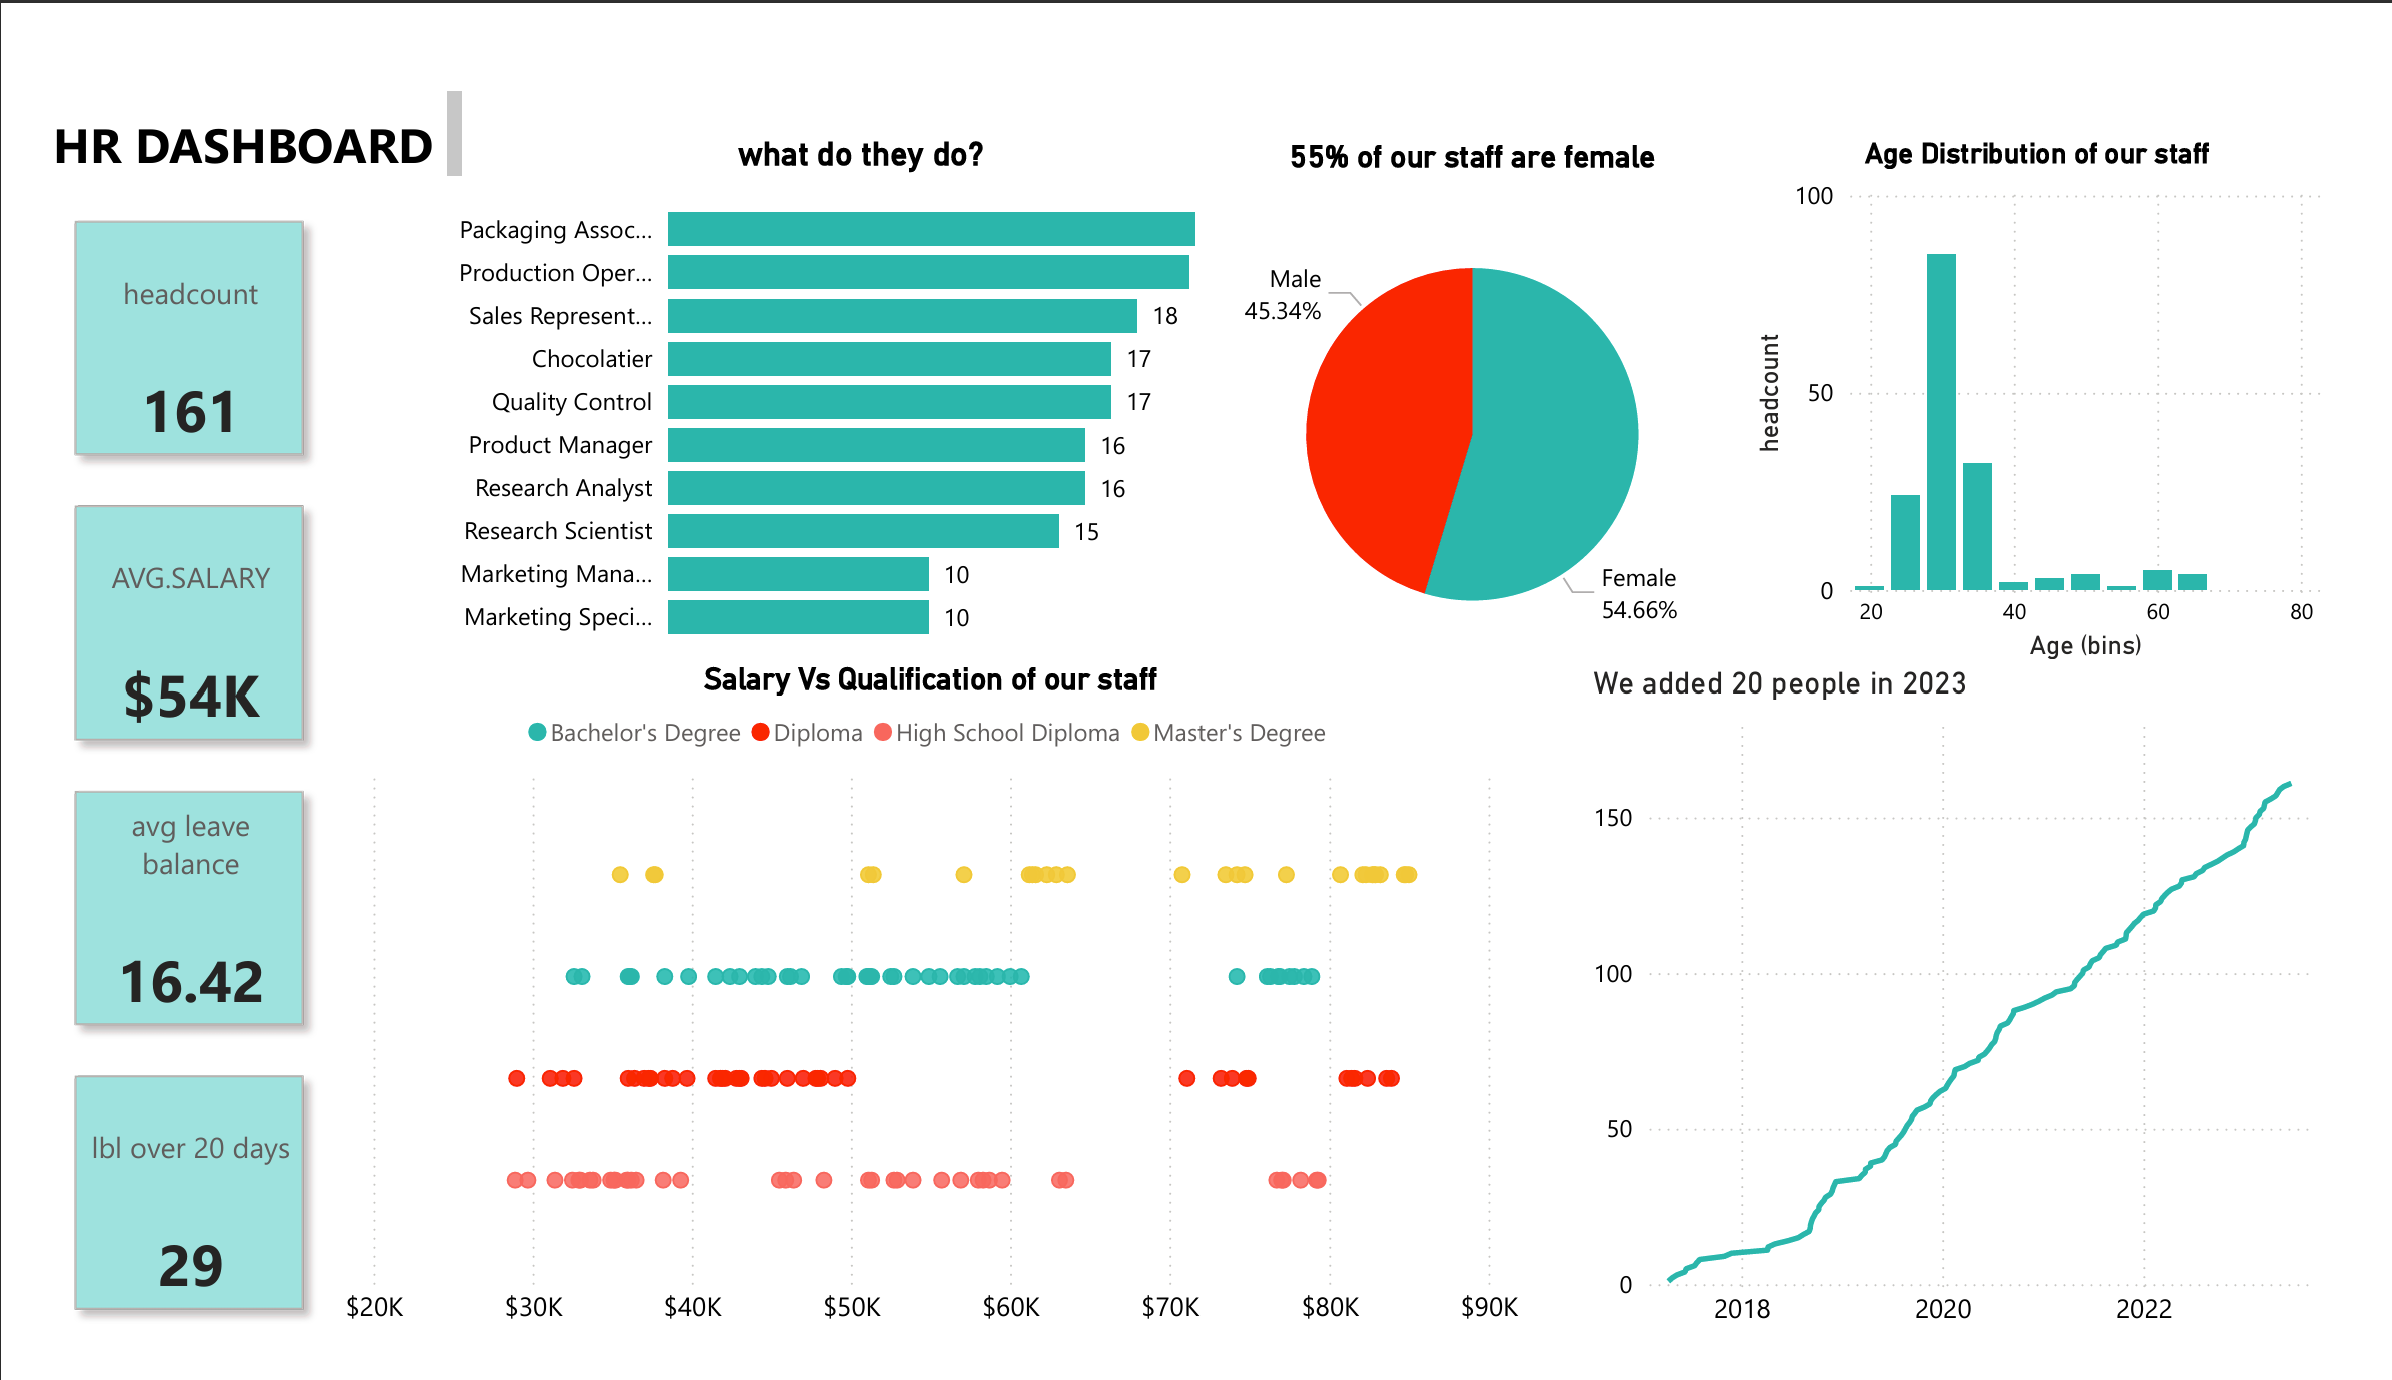

What the dashboard file says about the page in this screenshot:
{"tool":"powerbi","page":{"name":"Page 10","canvas":[1280,720],"ordinal":6},"visuals":[{"type":"cardVisual","fields":{"Data":["data.headcount","data.avg.salary","data.avg leave balance","data.lbl over 20 days"]},"box":[0,79.6,160.8,641.5],"z":0},{"type":"clusteredBarChart","title":"what do they do?","fields":{"Category":["data.Job Title"],"Y":["data.headcount"]},"box":[214.4,49,479.2,292.4],"z":1000},{"type":"pieChart","title":"55% of our staff are female","fields":{"Y":["CountNonNull(data.Job Title)"],"Category":["data.Gender"]},"box":[640,50.5,306.2,310.8],"z":2000},{"type":"clusteredColumnChart","title":" Age Distribution of our staff ","fields":{"Category":["data.Age (bins)"],"Y":["data.headcount"]},"box":[944.6,50.2,324.1,294.9],"z":3000},{"type":"scatterChart","title":" Salary Vs Qualification of our staff","fields":{"X":["data.Salary"],"Series":["Education Qualification.Qual"],"Y":["Education Qualification.Qualification ID"]},"box":[160.8,341.4,663,378.2],"z":4000},{"type":"lineChart","title":"We added 20 people in 2023","fields":{"Y":["data.cumulative headcount"],"Category":["data.Date of Join"]},"box":[855.5,343.5,413.2,377.5],"z":5000},{"type":"textbox","box":[0,20.4,236.9,58],"z":5001}]}

Visuals, with their boxes in screenshot pixels (x1, y1, x2, y2), scaled from the page's 1280x720 canvas onto the 2392x1380 screenshot:
cardVisual - data.headcount x data.avg.salary: bbox(0, 153, 300, 1379)
"what do they do?" clusteredBarChart: bbox(401, 94, 1296, 654)
"55% of our staff are female" pieChart: bbox(1196, 97, 1768, 692)
" Age Distribution of our staff " clusteredColumnChart: bbox(1765, 96, 2371, 661)
" Salary Vs Qualification of our staff" scatterChart: bbox(300, 654, 1539, 1379)
"We added 20 people in 2023" lineChart: bbox(1599, 658, 2371, 1379)
textbox: bbox(0, 39, 443, 150)
